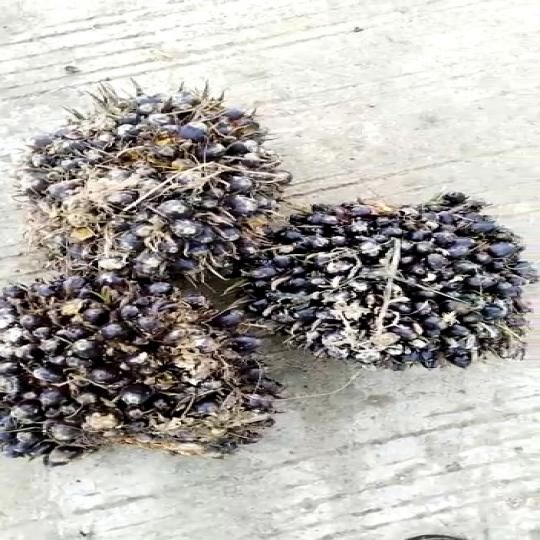mentah: (0, 270, 304, 475), (13, 79, 306, 288), (250, 193, 509, 375)
